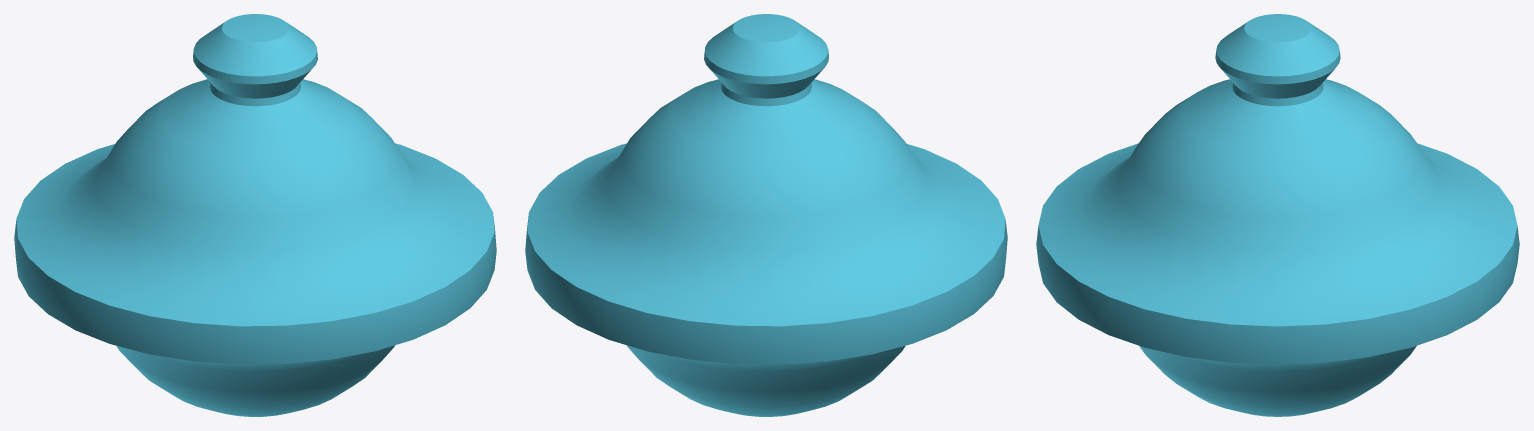
The picture shows the model from 3 angles, left to right: view 1: azimuth 30°, elevation 25°; view 2: azimuth 150°, elevation 25°; view 3: azimuth 270°, elevation 25°; orthographic projection.
Parts seen in each view (by area): view 1: Sphere001; view 2: Sphere001; view 3: Sphere001.
Boxes of the visible parts, x1=… form: Sphere001: x1=14, y1=14, x2=496, y2=416; Sphere001: x1=525, y1=14, x2=1007, y2=416; Sphere001: x1=1036, y1=14, x2=1519, y2=416.
Size of the model in its own units: 13.99 by 12 by 13.99.
